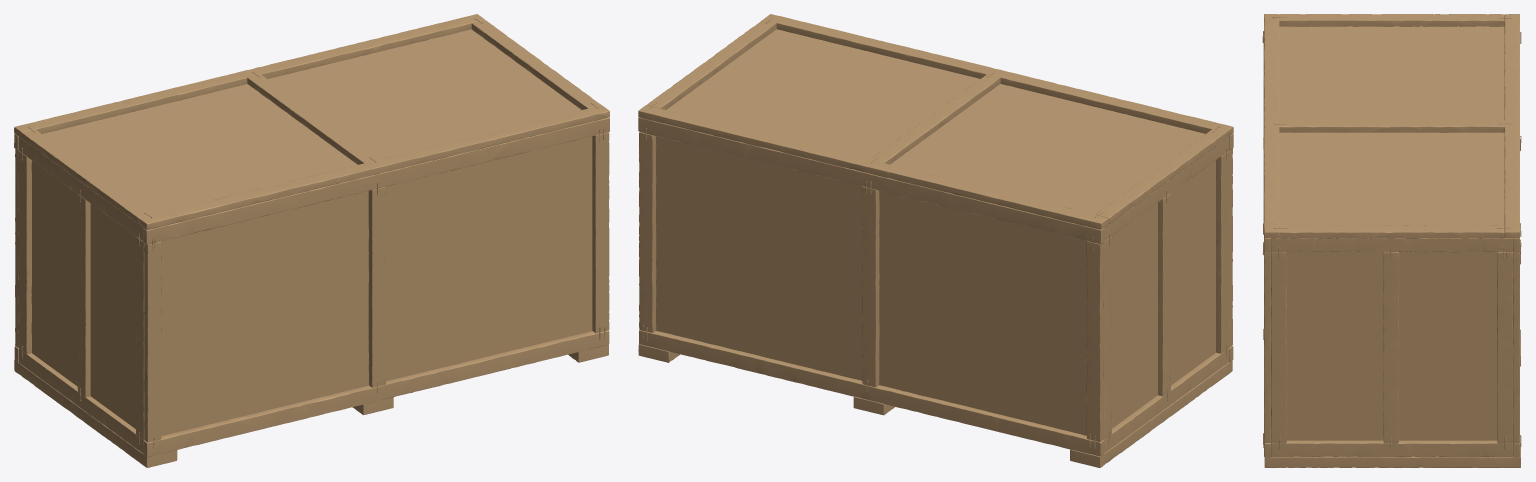
File: crate_plywood_b04.glb
3 views of the same model, side by side, from view 1: azimuth 30°, elevation 25°; view 2: azimuth 150°, elevation 25°; view 3: azimuth 270°, elevation 25° (orthographic). The views are drawn at different scales.
Bounding box in the file's own units: 2.01 × 1.02 × 1.01.
